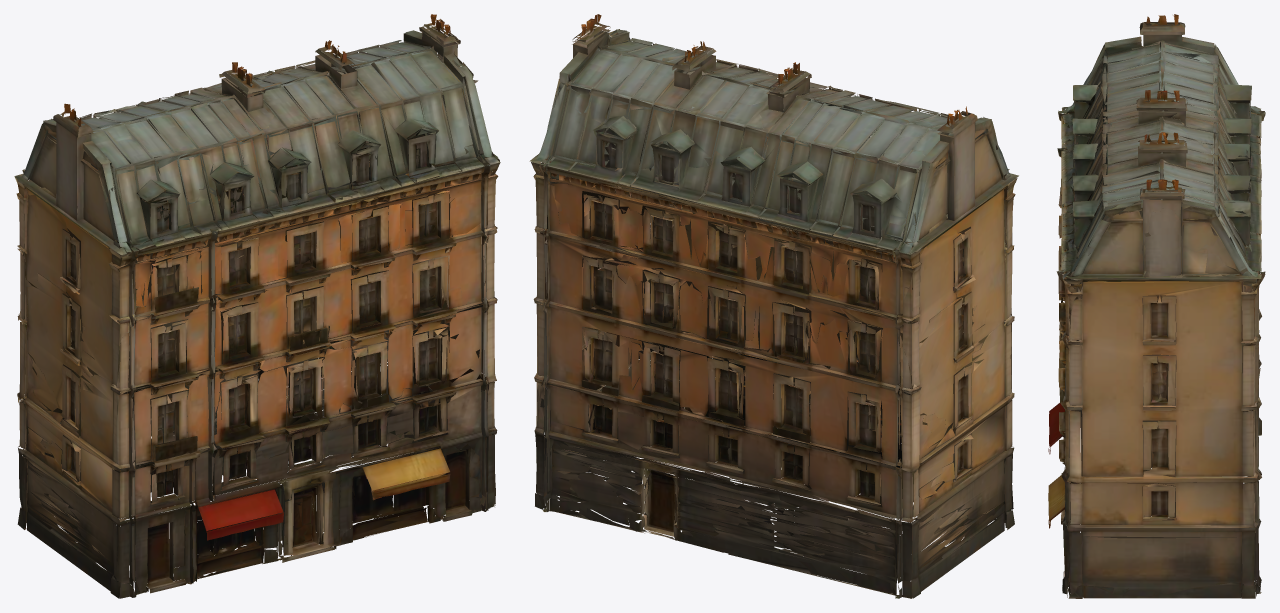
Rendered from ch03_perimeter_tenement.glb.
3 views of the same model, side by side, from view 1: azimuth 30°, elevation 25°; view 2: azimuth 150°, elevation 25°; view 3: azimuth 270°, elevation 25° (orthographic). The views are drawn at different scales.
Parts seen in each view (by area): view 1: material; view 2: material; view 3: material.
Boxes of the visible parts, x1,y1,x2,y2 form: material: (14, 14, 500, 598); material: (529, 14, 1018, 598); material: (1048, 14, 1265, 598).
Bounding box in the file's own units: 0.7702 × 0.8643 × 0.4077.
Materials: 1 (1 with a texture image).
